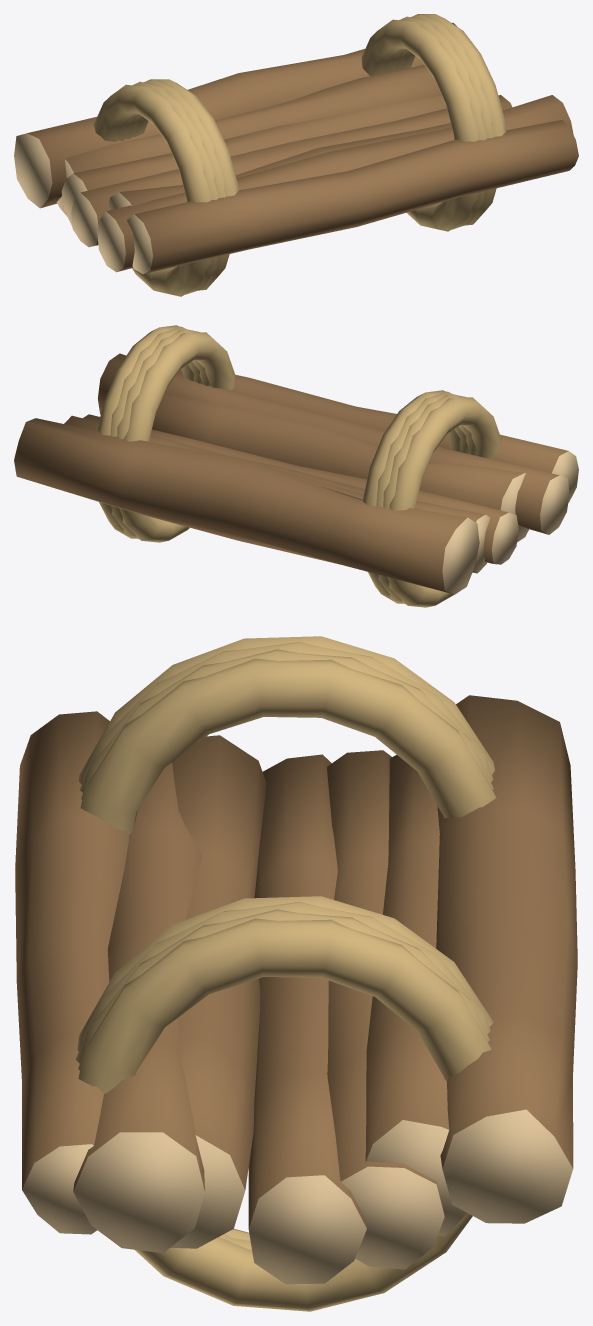
Rendered from wood.glb.
3 renders of one model, top to bottom at view 1: azimuth 30°, elevation 25°; view 2: azimuth 150°, elevation 25°; view 3: azimuth 270°, elevation 25°, orthographic. The views are drawn at different scales.
Parts seen in each view (by area): view 1: wood_log_0, wood_binding_right, wood_binding_left, wood_log_6, wood_log_5, wood_log_1, wood_log_4, wood_log_3, wood_log_2; view 2: wood_log_6, wood_log_2, wood_binding_left, wood_binding_right, wood_log_1, wood_log_0, wood_log_3, wood_log_4, wood_log_5; view 3: wood_log_6, wood_binding_right, wood_log_0, wood_binding_left, wood_log_3, wood_log_1, wood_log_2, wood_log_4, wood_log_5.
Boxes of the visible parts, bbox=[...] form: wood_log_0: bbox=[126, 120, 578, 274]; wood_binding_right: bbox=[361, 14, 506, 231]; wood_binding_left: bbox=[93, 79, 238, 296]; wood_log_6: bbox=[14, 22, 456, 208]; wood_log_5: bbox=[56, 65, 441, 215]; wood_log_1: bbox=[97, 95, 573, 272]; wood_log_4: bbox=[61, 96, 446, 226]; wood_log_3: bbox=[71, 95, 512, 247]; wood_log_2: bbox=[108, 123, 451, 210]; wood_log_6: bbox=[14, 418, 479, 594]; wood_log_2: bbox=[152, 394, 528, 542]; wood_binding_left: bbox=[362, 390, 501, 607]; wood_binding_right: bbox=[97, 325, 235, 542]; wood_log_1: bbox=[97, 353, 569, 534]; wood_log_0: bbox=[178, 369, 578, 502]; wood_log_3: bbox=[83, 414, 518, 564]; wood_log_4: bbox=[233, 457, 490, 573]; wood_log_5: bbox=[64, 415, 425, 510]; wood_log_6: bbox=[436, 695, 577, 1223]; wood_binding_right: bbox=[75, 896, 493, 1311]; wood_log_0: bbox=[15, 711, 128, 1234]; wood_binding_left: bbox=[78, 636, 496, 834]; wood_log_3: bbox=[248, 754, 366, 1284]; wood_log_1: bbox=[73, 762, 204, 1253]; wood_log_2: bbox=[170, 735, 266, 1248]; wood_log_4: bbox=[327, 750, 444, 1269]; wood_log_5: bbox=[365, 755, 466, 1236].
Size of the model in its own units: 0.7336 by 0.3129 by 0.4025.
